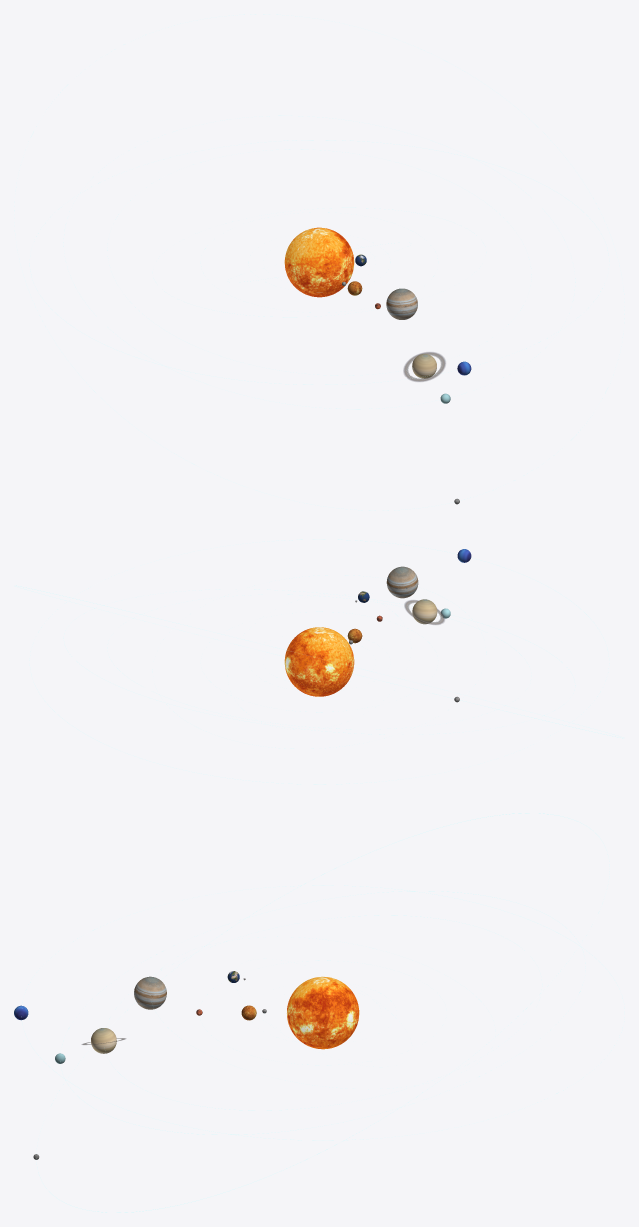
File: Solar_System.glb
3 renders of one model, top to bottom at view 1: azimuth 30°, elevation 25°; view 2: azimuth 150°, elevation 25°; view 3: azimuth 270°, elevation 25°, orthographic. The views are drawn at different scales.
Parts seen in each view (by area): view 1: sun, jupiter; view 2: sun, jupiter, saturn; view 3: sun, jupiter, saturn.
Boxes of the visible parts, x1=… form: sun: x1=284, y1=227, x2=354, y2=297; jupiter: x1=386, y1=288, x2=417, y2=319; sun: x1=284, y1=627, x2=354, y2=696; jupiter: x1=386, y1=566, x2=418, y2=598; saturn: x1=412, y1=599, x2=437, y2=624; sun: x1=287, y1=976, x2=359, y2=1049; jupiter: x1=134, y1=976, x2=166, y2=1009; saturn: x1=91, y1=1028, x2=116, y2=1053.
Bounding box in the file's own units: 108 × 53.07 × 101.
13 materials, 12 textured.
